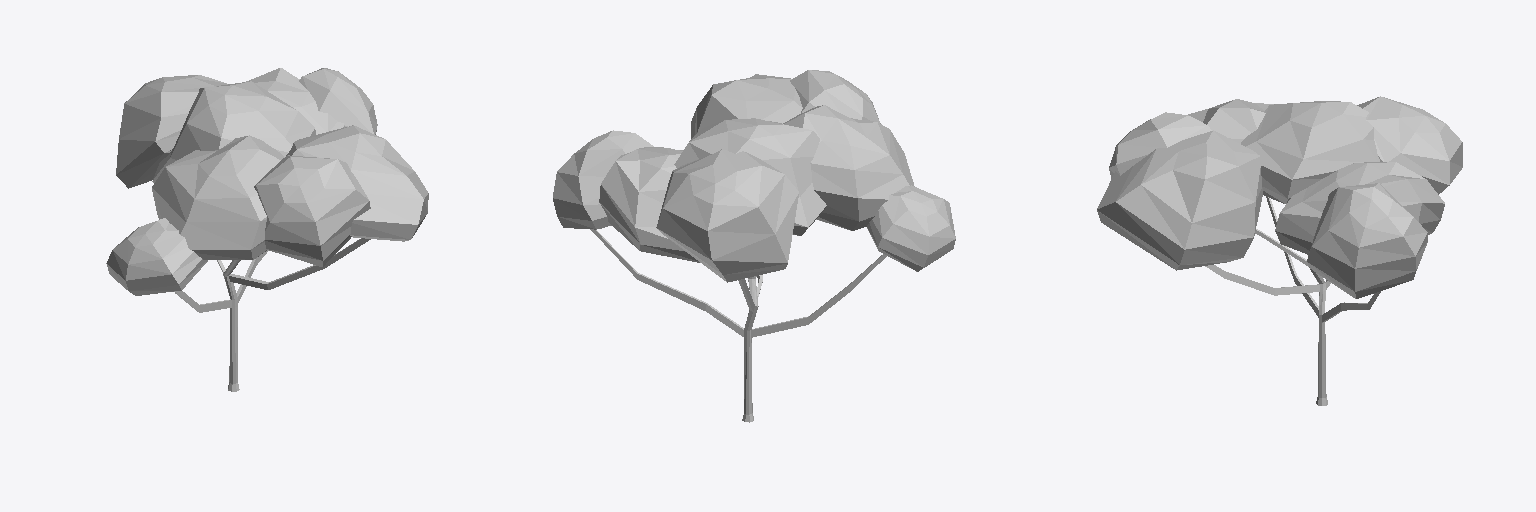
File: eucalyptus_trees.obj
3 views of the same model, side by side, from view 1: azimuth 30°, elevation 25°; view 2: azimuth 150°, elevation 25°; view 3: azimuth 270°, elevation 25° (orthographic).
Parts seen in each view (by area): view 1: E-Leaf_2_Sphere.001, E_Leaf_6_Sphere.005, E_Leaf_5_Sphere.004, E_Leaf_3_Sphere.002, E_Leaf_4_Sphere.003, E-Leaf_Sphere, eucalyptus_trees_Cube.074, E_Leaf_8_Sphere.007, E_Leaf_7_Sphere.006; view 2: E_Leaf_4_Sphere.003, E-Leaf_2_Sphere.001, E_Leaf_3_Sphere.002, E_Leaf_7_Sphere.006, E-Leaf_Sphere, E_Leaf_8_Sphere.007, E_Leaf_5_Sphere.004, eucalyptus_trees_Cube.074, E_Leaf_6_Sphere.005; view 3: E_Leaf_5_Sphere.004, E_Leaf_8_Sphere.007, E_Leaf_3_Sphere.002, E_Leaf_7_Sphere.006, E_Leaf_4_Sphere.003, eucalyptus_trees_Cube.074, E_Leaf_6_Sphere.005, E-Leaf_2_Sphere.001.
Part boxes in pixels (left/top/right/bottom): E-Leaf_2_Sphere.001: left=152, top=135, right=284, bottom=259; E_Leaf_6_Sphere.005: left=254, top=155, right=370, bottom=266; E_Leaf_5_Sphere.004: left=286, top=125, right=428, bottom=241; E_Leaf_3_Sphere.002: left=152, top=81, right=315, bottom=182; E_Leaf_4_Sphere.003: left=116, top=75, right=227, bottom=188; E-Leaf_Sphere: left=106, top=218, right=207, bottom=295; eucalyptus_trees_Cube.074: left=174, top=238, right=370, bottom=391; E_Leaf_8_Sphere.007: left=299, top=68, right=377, bottom=134; E_Leaf_7_Sphere.006: left=246, top=68, right=344, bottom=134; E_Leaf_4_Sphere.003: left=656, top=149, right=798, bottom=282; E-Leaf_2_Sphere.001: left=783, top=105, right=914, bottom=230; E_Leaf_3_Sphere.002: left=674, top=118, right=826, bottom=235; E_Leaf_7_Sphere.006: left=599, top=147, right=699, bottom=262; E-Leaf_Sphere: left=867, top=185, right=955, bottom=271; E_Leaf_8_Sphere.007: left=553, top=130, right=653, bottom=229; E_Leaf_5_Sphere.004: left=691, top=74, right=802, bottom=138; eucalyptus_trees_Cube.074: left=590, top=229, right=886, bottom=422; E_Leaf_6_Sphere.005: left=790, top=70, right=880, bottom=123; E_Leaf_5_Sphere.004: left=1097, top=130, right=1262, bottom=270; E_Leaf_8_Sphere.007: left=1307, top=183, right=1427, bottom=298; E_Leaf_3_Sphere.002: left=1241, top=101, right=1379, bottom=203; E_Leaf_7_Sphere.006: left=1275, top=162, right=1444, bottom=254; E_Leaf_4_Sphere.003: left=1357, top=96, right=1462, bottom=194; eucalyptus_trees_Cube.074: left=1205, top=197, right=1380, bottom=405; E_Leaf_6_Sphere.005: left=1109, top=112, right=1211, bottom=178; E-Leaf_2_Sphere.001: left=1188, top=99, right=1273, bottom=143.
Size of the model in its own units: 115 by 102 by 115.